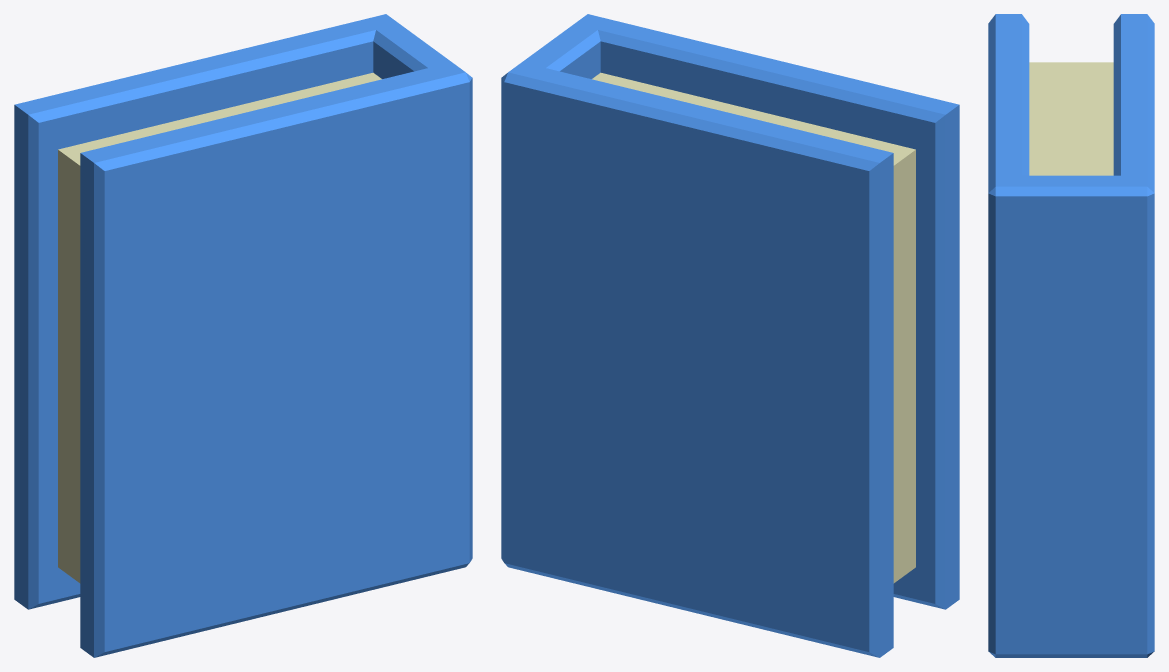
The model's file is BookThiccBlockout_RB.fbx.
3 renders of one model, left to right at view 1: azimuth 30°, elevation 25°; view 2: azimuth 150°, elevation 25°; view 3: azimuth 270°, elevation 25°, orthographic. The views are drawn at different scales.
Visible parts, largest first — view 1: BookThiccBlockout_RB; view 2: BookThiccBlockout_RB; view 3: BookThiccBlockout_RB.
Boxes of the visible parts, x1,y1,x2,y2 form: BookThiccBlockout_RB: (14, 14, 472, 657); BookThiccBlockout_RB: (501, 14, 959, 657); BookThiccBlockout_RB: (988, 14, 1154, 657).
Bounding box in the file's own units: 100 × 125 × 40.
